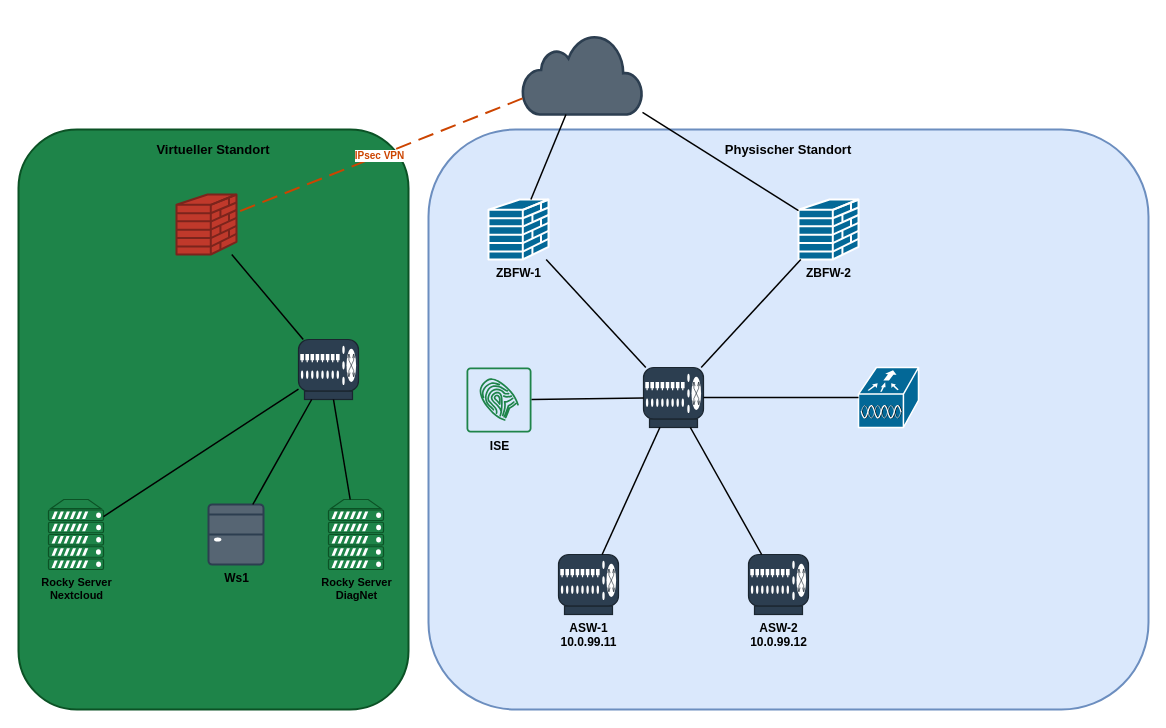
The diagram is 1166 pixels wide and 728 high, and some of its shapes have lost their labels. The shapes that lost their labels are listed below. From the top down, each one's centre as x and y in pixels, then its label:
At pixel 582 74: "WAN".
At pixel 206 224: "FortiGate".
At pixel 328 369: "vSwitch".
At pixel 673 397: "DSW 10.0.99.1".
At pixel 888 397: "WLC".
